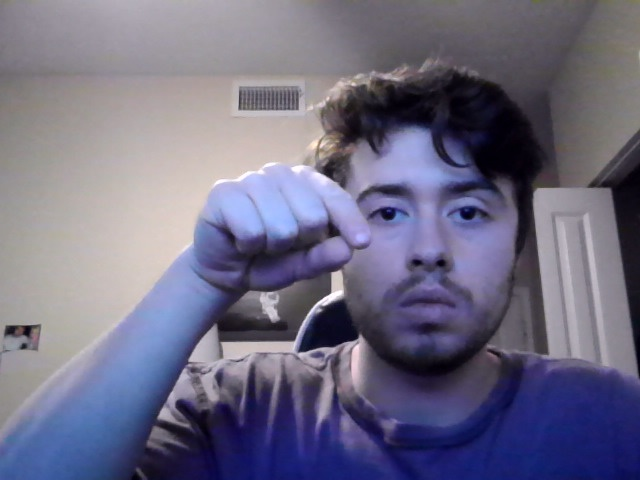q: (183, 162, 374, 313)
